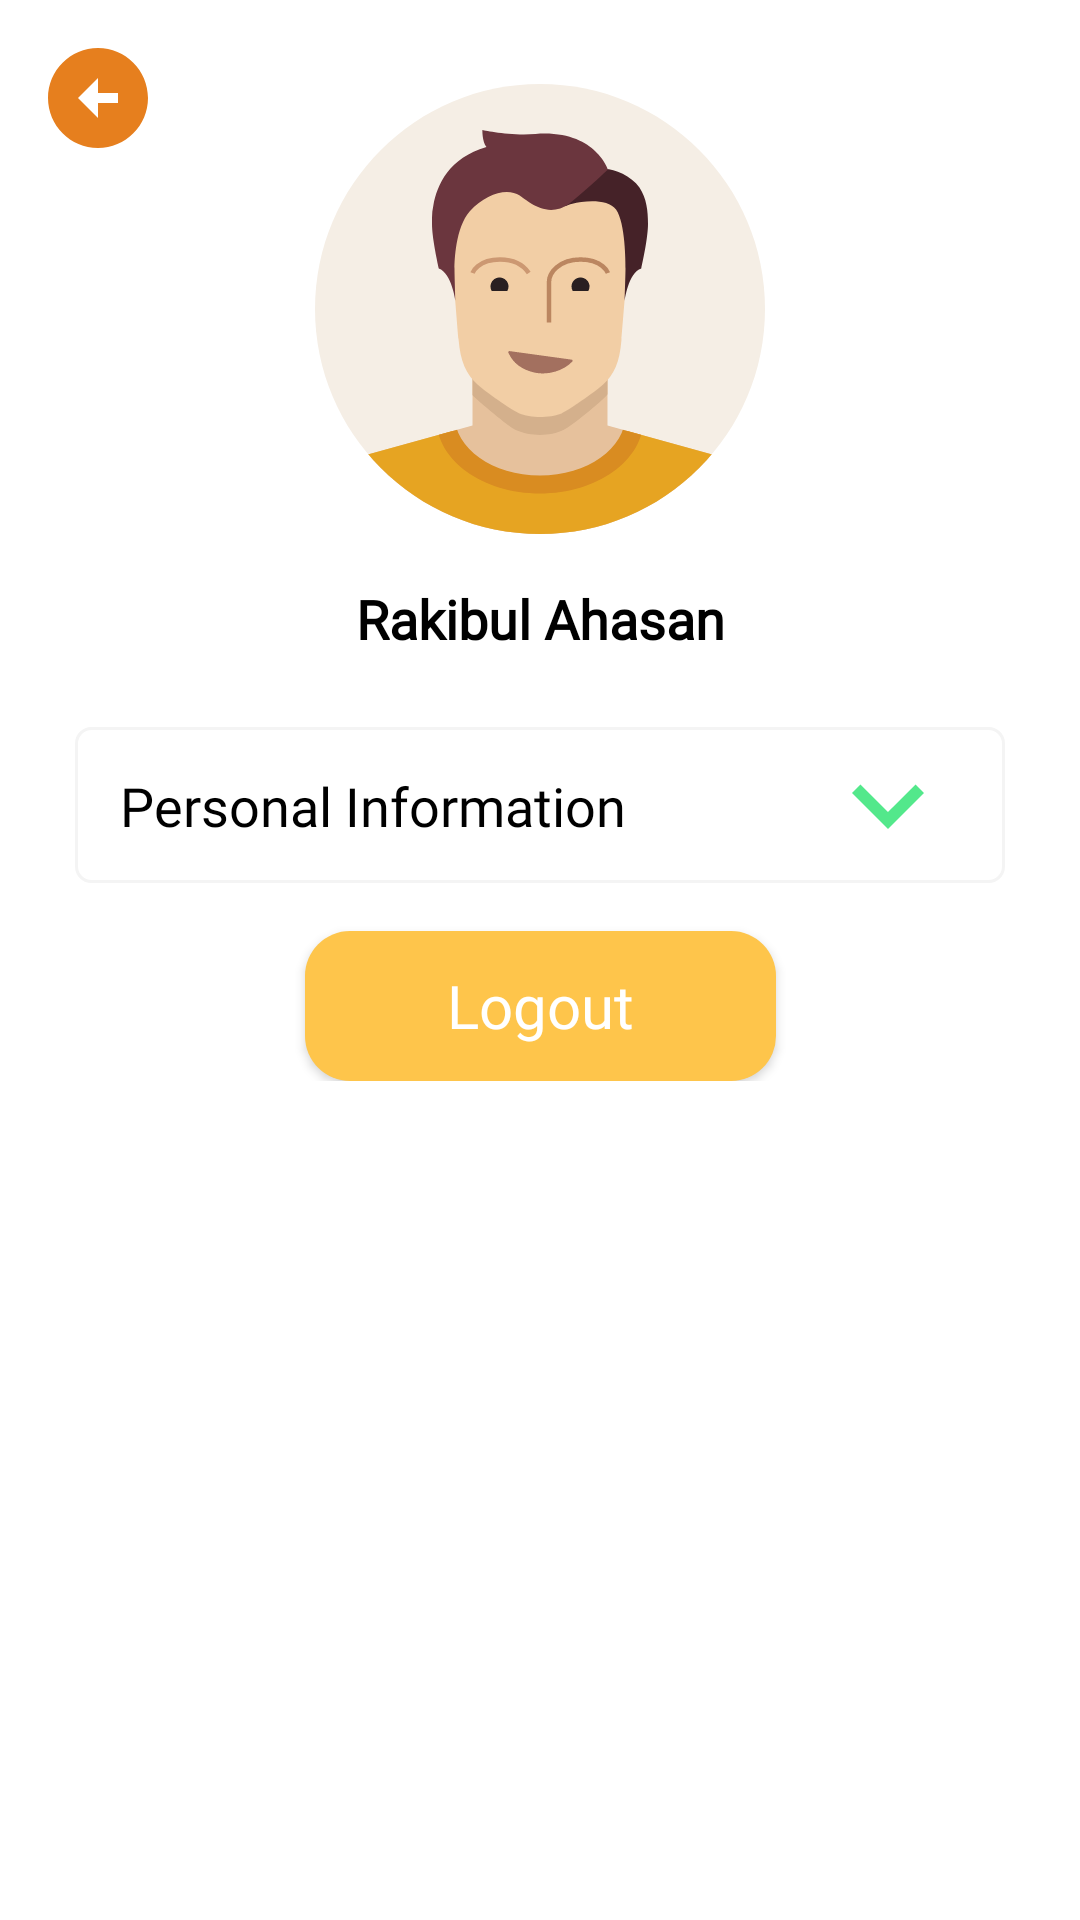

Icon bounding boxes for this 1080*1920 phone screenshot, format rect(x1, y1, x2, y2):
arrow back: rect(48, 48, 148, 148)
arrow down: rect(852, 784, 924, 829)
